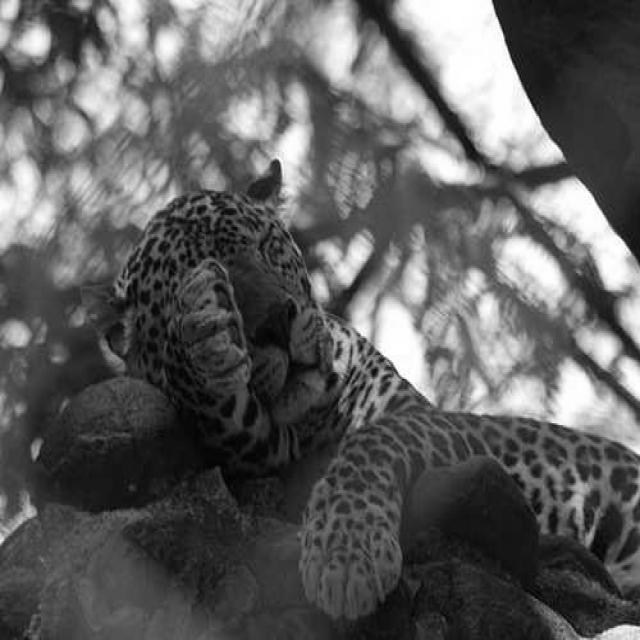Leopard: (78, 157, 639, 626)
